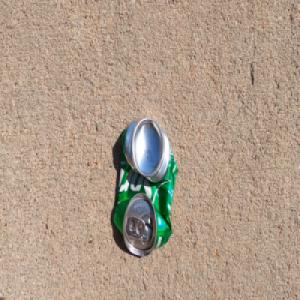SodaCan: (112, 114, 178, 258)
